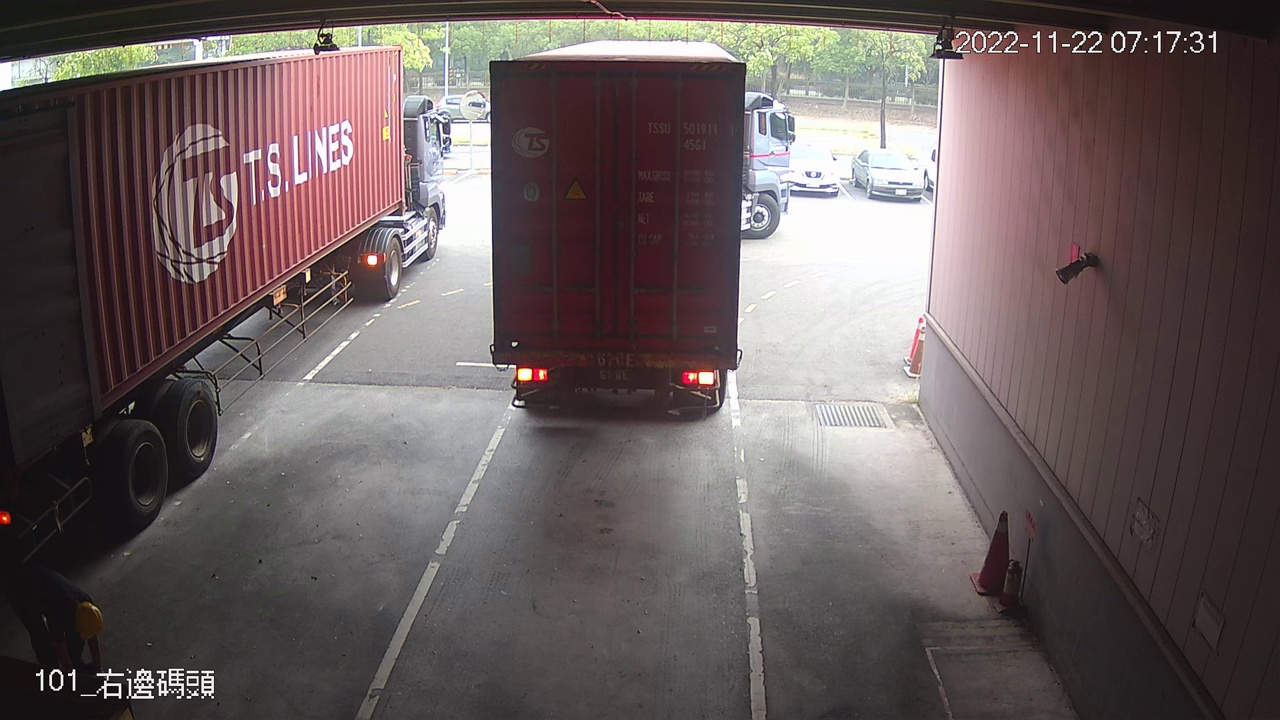container: (641, 117, 740, 156)
